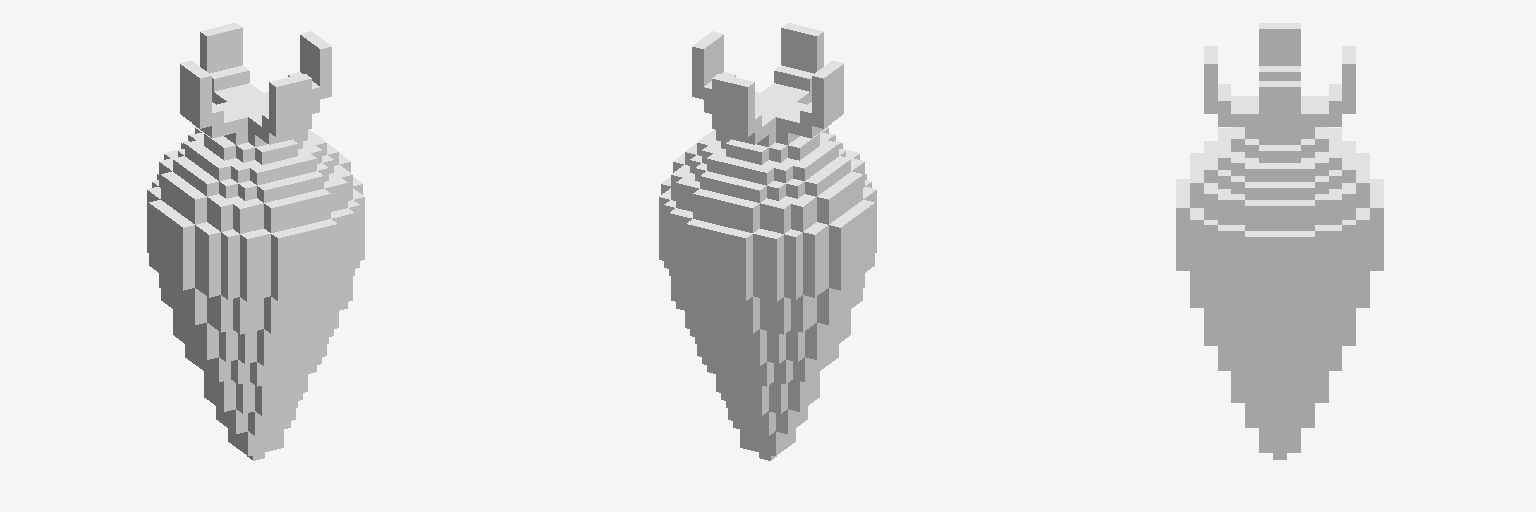
The model's file is carrot.obj.
3 views of the same model, side by side, from view 1: azimuth 30°, elevation 25°; view 2: azimuth 150°, elevation 25°; view 3: azimuth 270°, elevation 25° (orthographic).
Bounding box in the file's own units: 15 × 32 × 15.